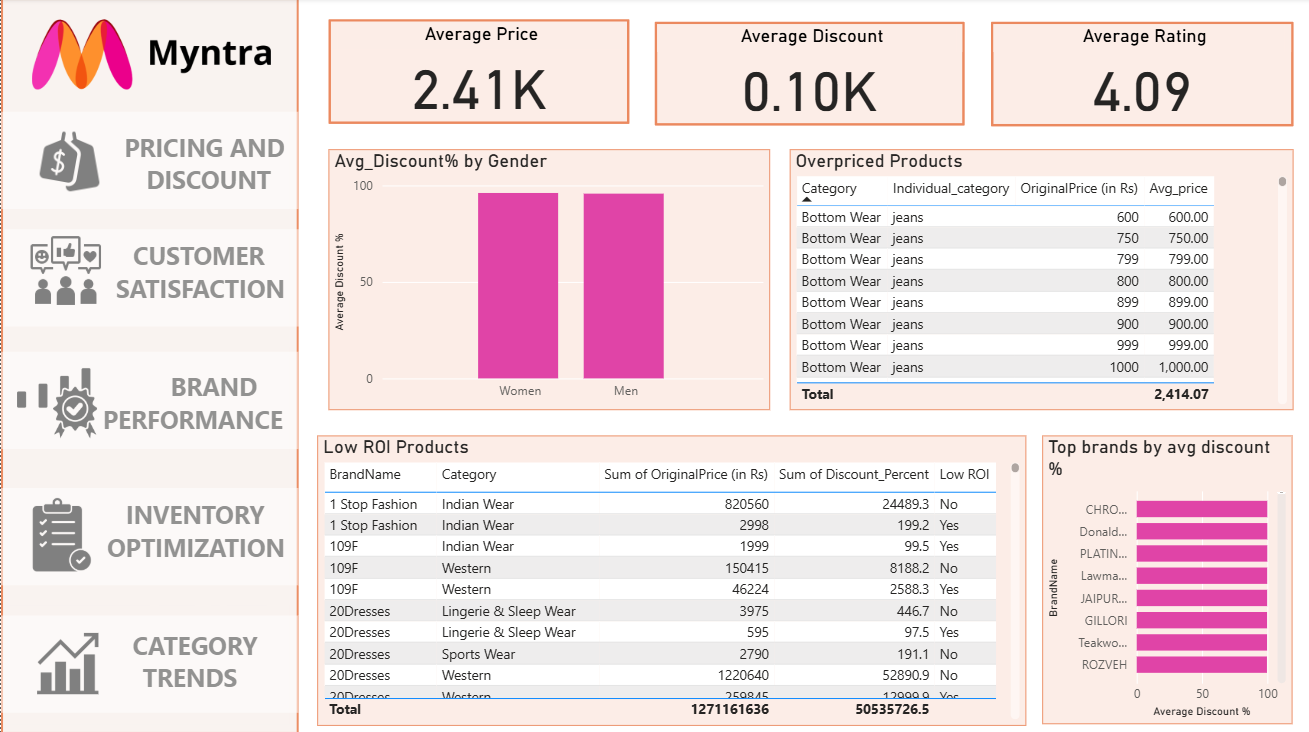

What the dashboard file says about the page in this screenshot:
{"tool":"powerbi","page":{"name":"Page 1","canvas":[1280,720],"ordinal":0},"visuals":[{"type":"shape","box":[0,0,291.2,720],"z":0},{"type":"image","box":[0,16.2,295,78.8],"z":1000},{"type":"textbox","box":[8.8,125,273.8,82.5],"z":2000},{"type":"image","box":[33,123.5,68.5,72.1],"z":3000},{"type":"actionButton","box":[0,111.3,291,95.4],"z":4000},{"type":"textbox","box":[8.6,231.1,273.9,90.5],"z":5000},{"type":"image","box":[8.6,226.2,108.8,80.7],"z":6000},{"type":"actionButton","box":[3.7,226.2,291,95.4],"z":7000},{"type":"textbox","box":[8.6,341.2,273.9,103.9],"z":8000},{"type":"image","box":[8.6,348.5,92.9,96.6],"z":9000},{"type":"actionButton","box":[0,346.1,291,95.4],"z":10000},{"type":"textbox","box":[8.6,484.2,273.9,84.4],"z":11000},{"type":"image","box":[17.1,484.2,85.6,81.9],"z":12000},{"type":"actionButton","box":[0,479.4,291,95.4],"z":13000},{"type":"textbox","box":[8.8,593.8,273.8,116.2],"z":14000},{"type":"image","box":[28.1,616.3,74.6,69.7],"z":15000},{"type":"actionButton","box":[0,604.1,291,95.4],"z":16000},{"type":"barChart","title":"Top brands by avg discount %","fields":{"Category":["myntra_cleaned.BrandName"],"Y":["myntra_cleaned.Avg_Discount%"]},"box":[1018.6,428,244.6,282.5],"z":17000},{"type":"columnChart","title":"Avg_Discount% by Gender","fields":{"Y":["myntra_cleaned.Avg_Discount%"],"Category":["myntra_cleaned.category_by_Gender"]},"box":[320.4,148,431.7,255.6],"z":18000},{"type":"tableEx","title":"Overpriced Products","fields":{"Values":["myntra_cleaned.Category","myntra_cleaned.Individual_category","myntra_cleaned.OriginalPrice (in Rs)","measure.Avg_price"]},"box":[771.6,148,492.8,255.6],"z":19000},{"type":"card","title":"Average Price","fields":{"Values":["measure.Avg_price"]},"box":[320.4,20.8,294.7,102.7],"z":20000},{"type":"card","title":"Average Discount ","fields":{"Values":["myntra_cleaned.Avg_Discount%"]},"box":[639.5,23.2,303.3,101.5],"z":21000},{"type":"card","title":"Average Rating","fields":{"Values":["myntra_cleaned.Overall Avg Rating"]},"box":[968.5,23.2,295.9,102.7],"z":22000},{"type":"tableEx","title":"Low ROI Products","fields":{"Values":["myntra_cleaned.BrandName","myntra_cleaned.Category","Sum(myntra_cleaned.OriginalPrice (in Rs))","Sum(myntra_cleaned.Discount_Percent)","myntra_cleaned.Low ROI"]},"box":[309.4,428,693.3,283.7],"z":23000}]}

Visuals, with their boxes in screenshot pixels (x1, y1, x2, y2), scaled from the page's 1280x720 canvas onto the 1309x732 screenshot:
shape: crop(0, 0, 298, 731)
image: crop(0, 16, 302, 97)
textbox: crop(9, 127, 289, 211)
image: crop(34, 126, 104, 199)
actionButton: crop(0, 113, 298, 210)
textbox: crop(9, 235, 289, 327)
image: crop(9, 230, 120, 312)
actionButton: crop(4, 230, 301, 327)
textbox: crop(9, 347, 289, 453)
image: crop(9, 354, 104, 453)
actionButton: crop(0, 352, 298, 449)
textbox: crop(9, 492, 289, 578)
image: crop(17, 492, 105, 576)
actionButton: crop(0, 487, 298, 584)
textbox: crop(9, 604, 289, 722)
image: crop(29, 627, 105, 697)
actionButton: crop(0, 614, 298, 711)
"Top brands by avg discount %" barChart: crop(1042, 435, 1292, 722)
"Avg_Discount% by Gender" columnChart: crop(328, 150, 769, 410)
"Overpriced Products" tableEx: crop(789, 150, 1293, 410)
"Average Price" card: crop(328, 21, 629, 126)
"Average Discount " card: crop(654, 24, 964, 127)
"Average Rating" card: crop(990, 24, 1293, 128)
"Low ROI Products" tableEx: crop(316, 435, 1025, 724)
